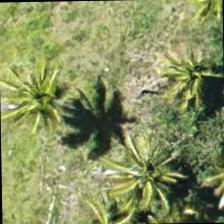Kelapa_Sawit: (111, 134, 204, 223), (0, 53, 79, 145), (148, 30, 223, 122), (72, 177, 164, 223)
